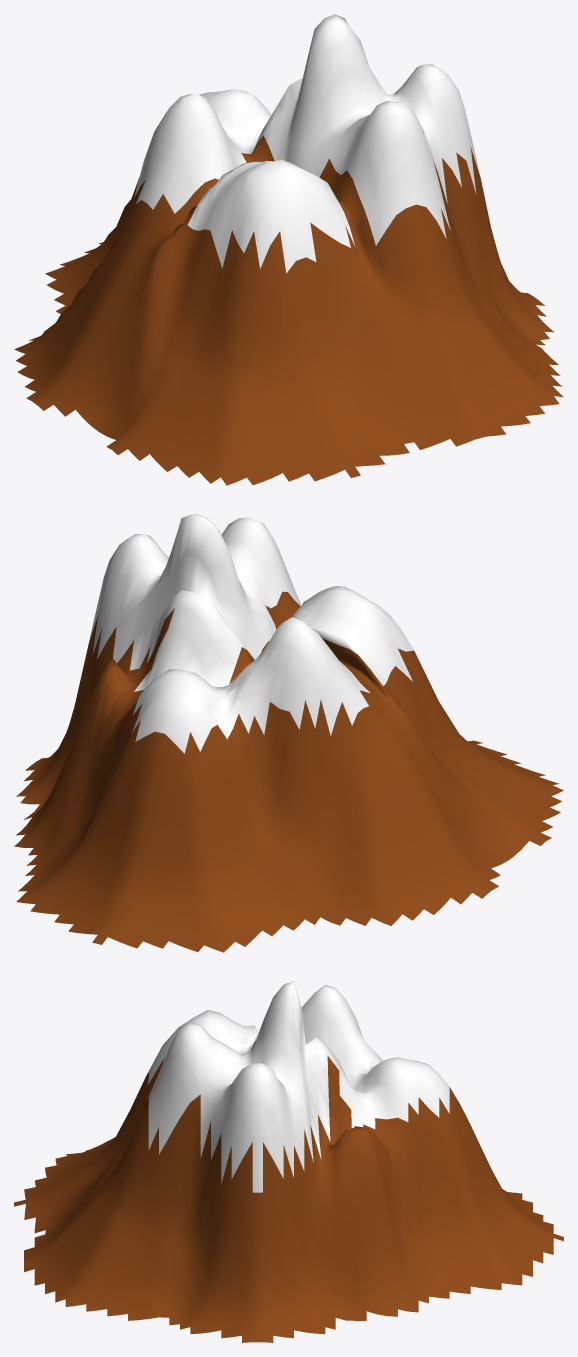
File: SM_Mountains_002.fbx
3 renders of one model, top to bottom at view 1: azimuth 30°, elevation 25°; view 2: azimuth 150°, elevation 25°; view 3: azimuth 270°, elevation 25°, orthographic. The views are drawn at different scales.
Parts seen in each view (by area): view 1: Plane.002; view 2: Plane.002; view 3: Plane.002.
Boxes of the visible parts, x1,y1,x2,y2 form: Plane.002: (14, 14, 563, 485); Plane.002: (14, 514, 563, 952); Plane.002: (14, 981, 563, 1342).
Size of the model in its own units: 3220 by 2000 by 3560.
